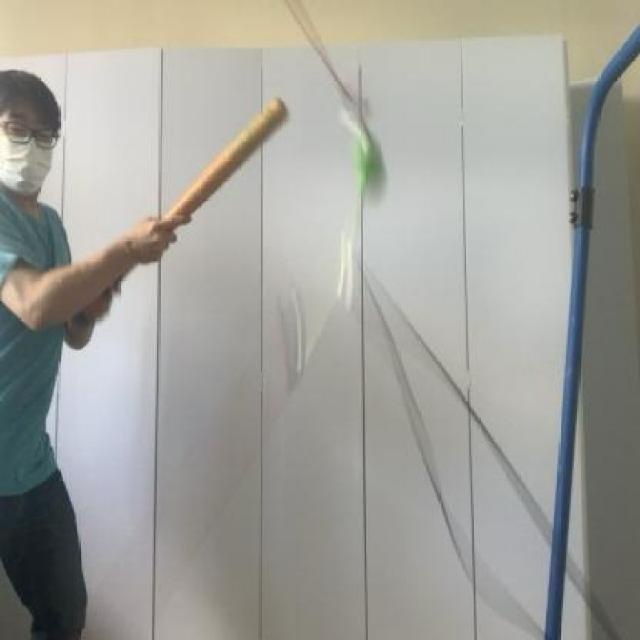baseball: (348, 121, 392, 210)
